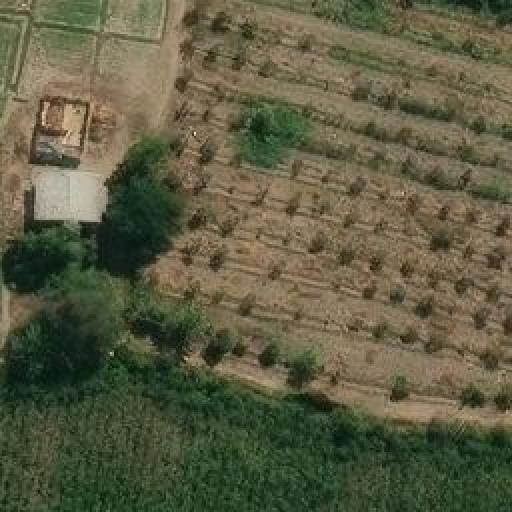manzanas: (23, 96, 115, 232)
